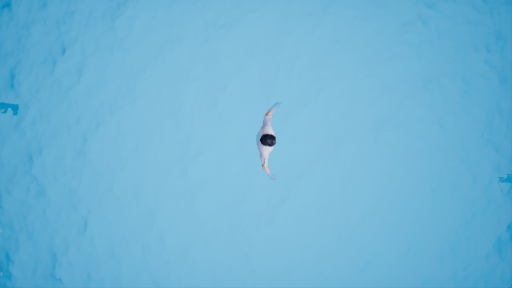person: (245, 100, 290, 178)
